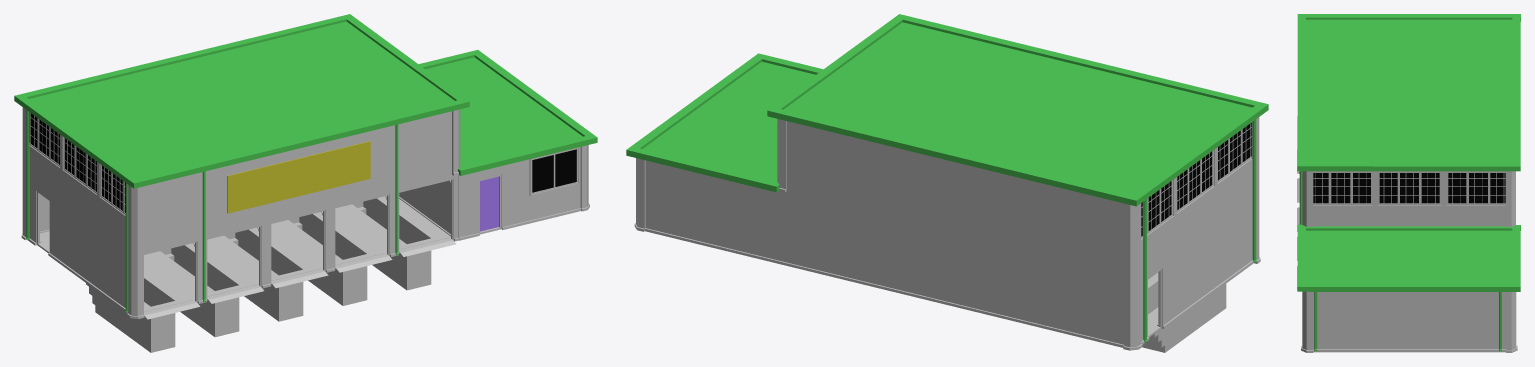
The model's file is HALF_car_service.fbx.
3 renders of one model, left to right at view 1: azimuth 30°, elevation 25°; view 2: azimuth 150°, elevation 25°; view 3: azimuth 270°, elevation 25°, orthographic. The views are drawn at different scales.
Parts seen in each view (by area): view 1: Cube_39; view 2: Cube_39; view 3: Cube_39.
Boxes of the visible parts, x1,y1,x2,y2 form: Cube_39: (14, 14, 597, 352); Cube_39: (626, 14, 1268, 352); Cube_39: (1297, 14, 1520, 352).
Size of the model in its own units: 1812 by 687 by 813.
